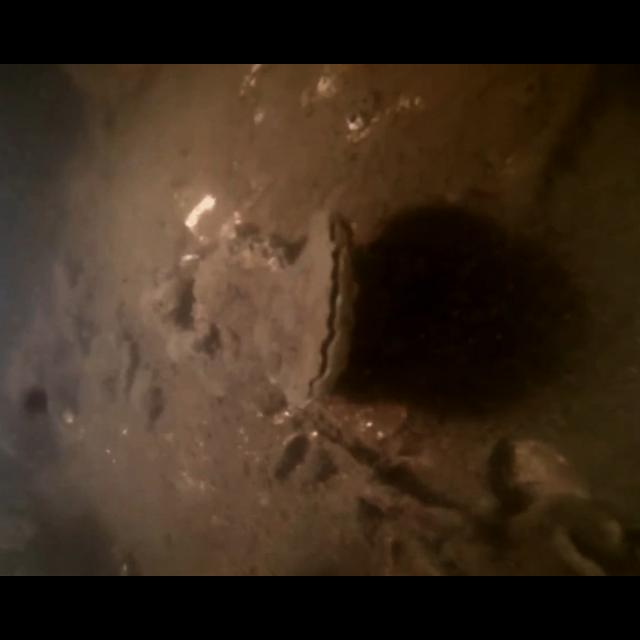Oyster-Open: (256, 204, 366, 408), (192, 234, 290, 382)
